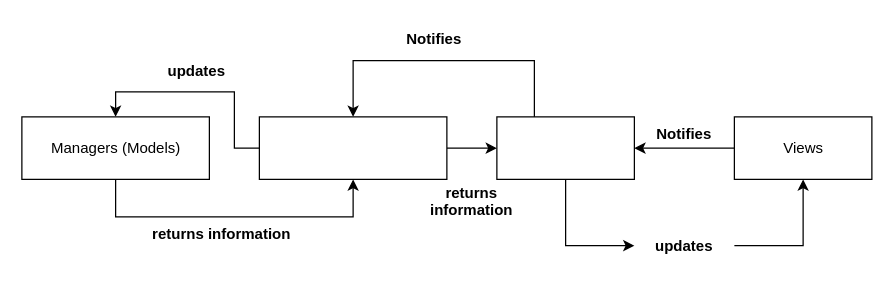
This 894x283 diagram has some shape labels left out. The box of each missing label's shape, as (x1, y1, x2, y2) in pixels:
MainMenu: (496, 116, 634, 179)
MainMenuController: (258, 116, 447, 179)
